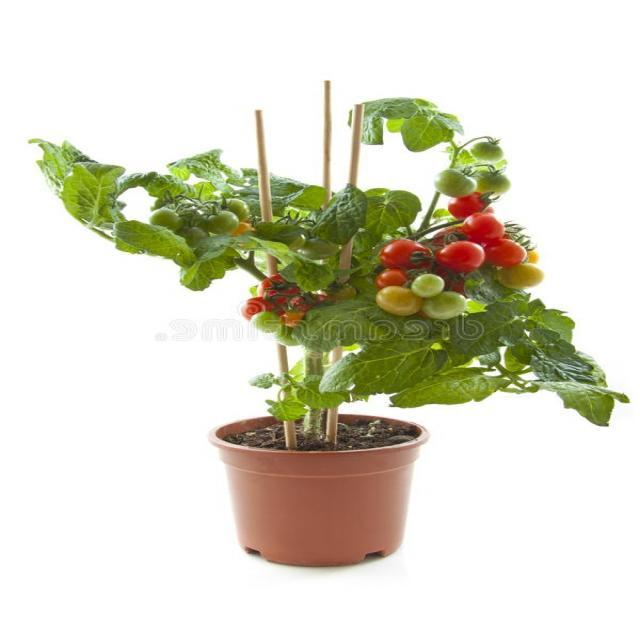tomato: (30, 97, 629, 425)
